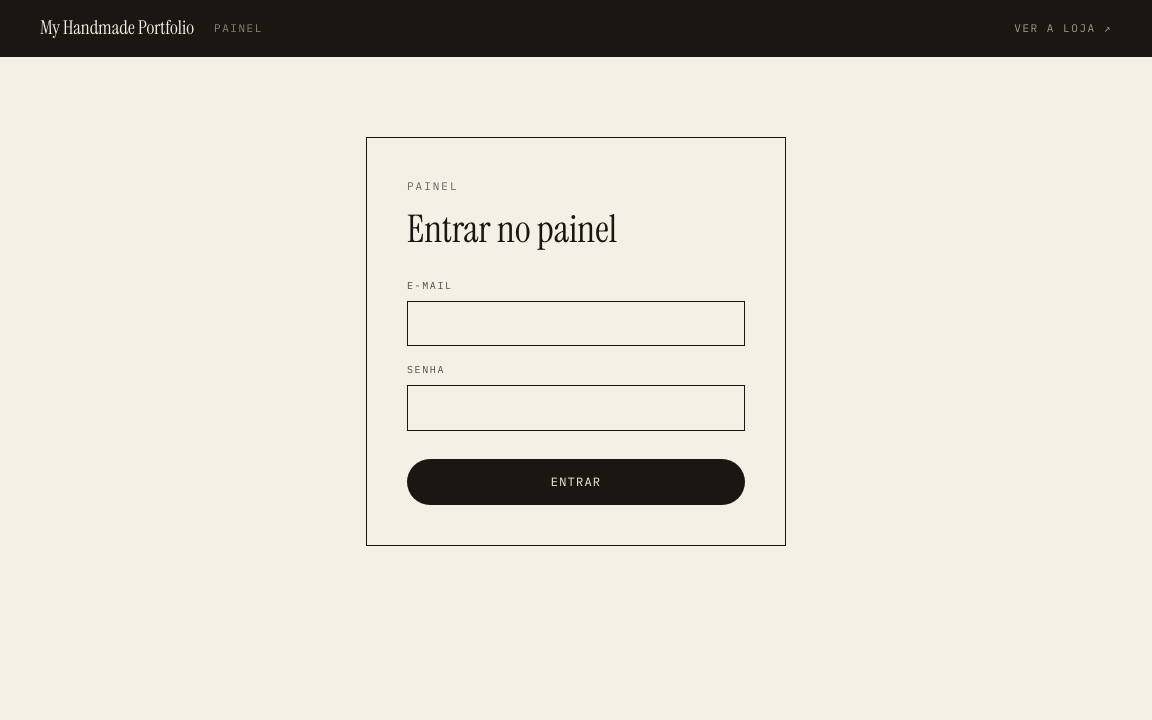
AdminShellContainer · the session guard › says the panel is down rather than blaming the password
In the field labelled "E-mail": (576, 324) x1=407 y1=301 x2=745 y2=346, type "augusto@example.com"
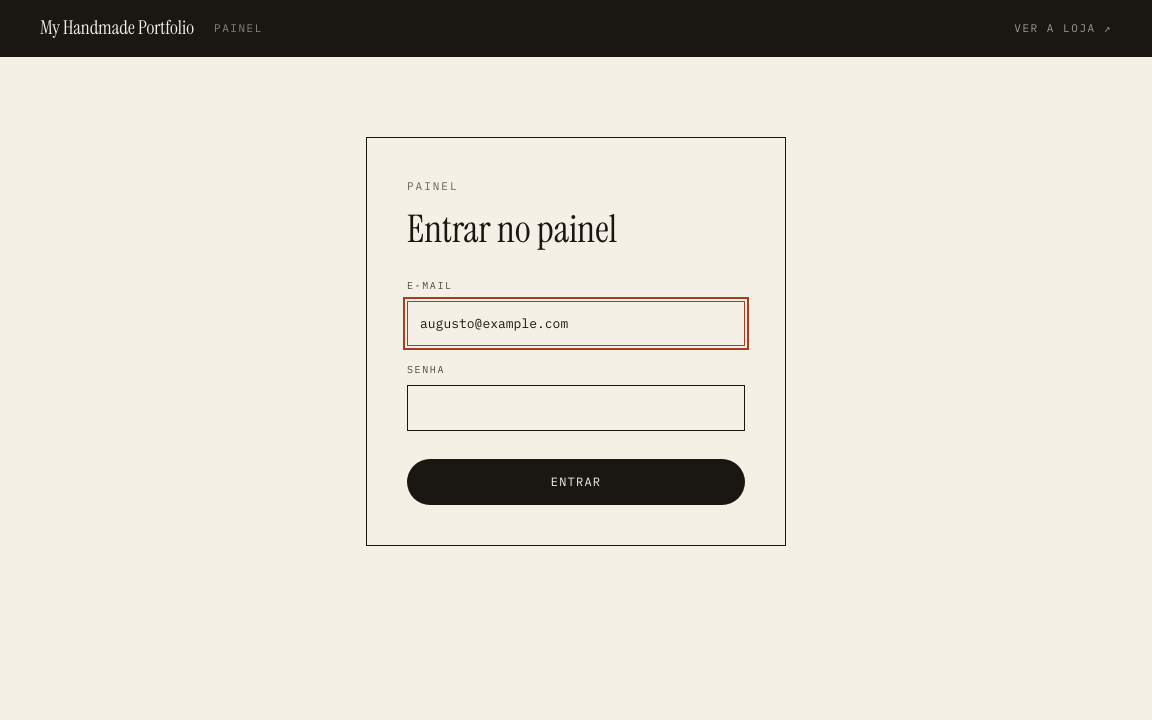
In the password field labelled "Senha": (576, 408) x1=407 y1=385 x2=745 y2=431, type "certa"
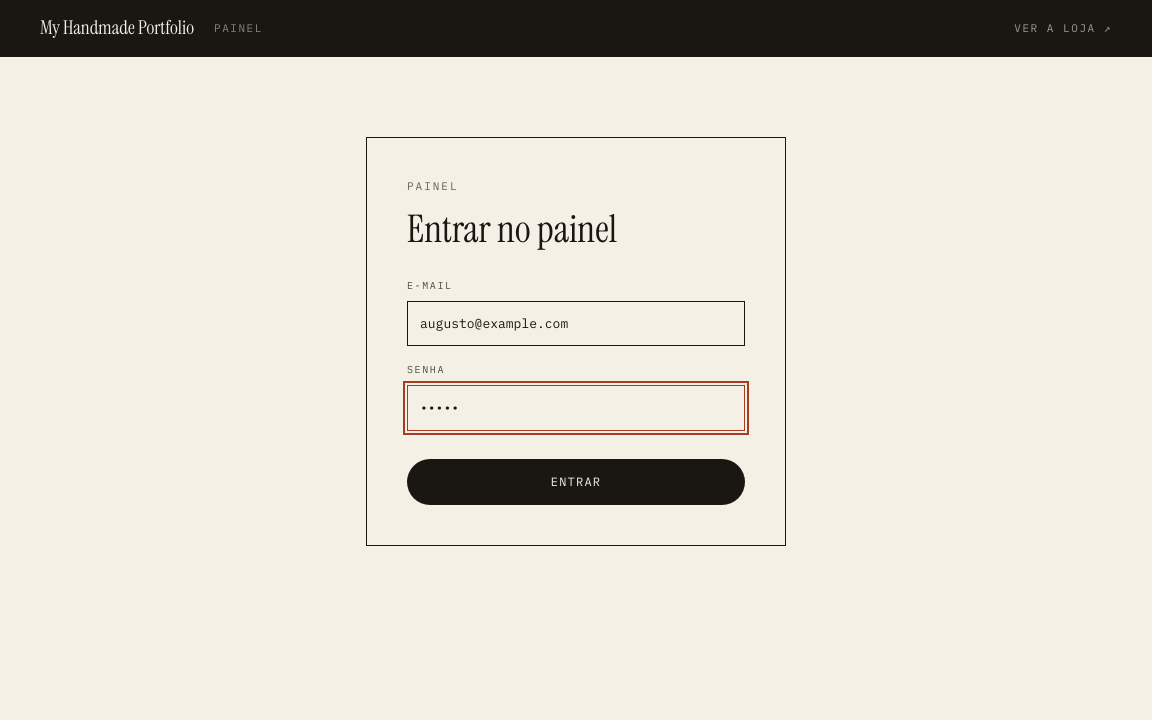
Click the button "Entrar": (576, 482) x1=407 y1=459 x2=745 y2=505
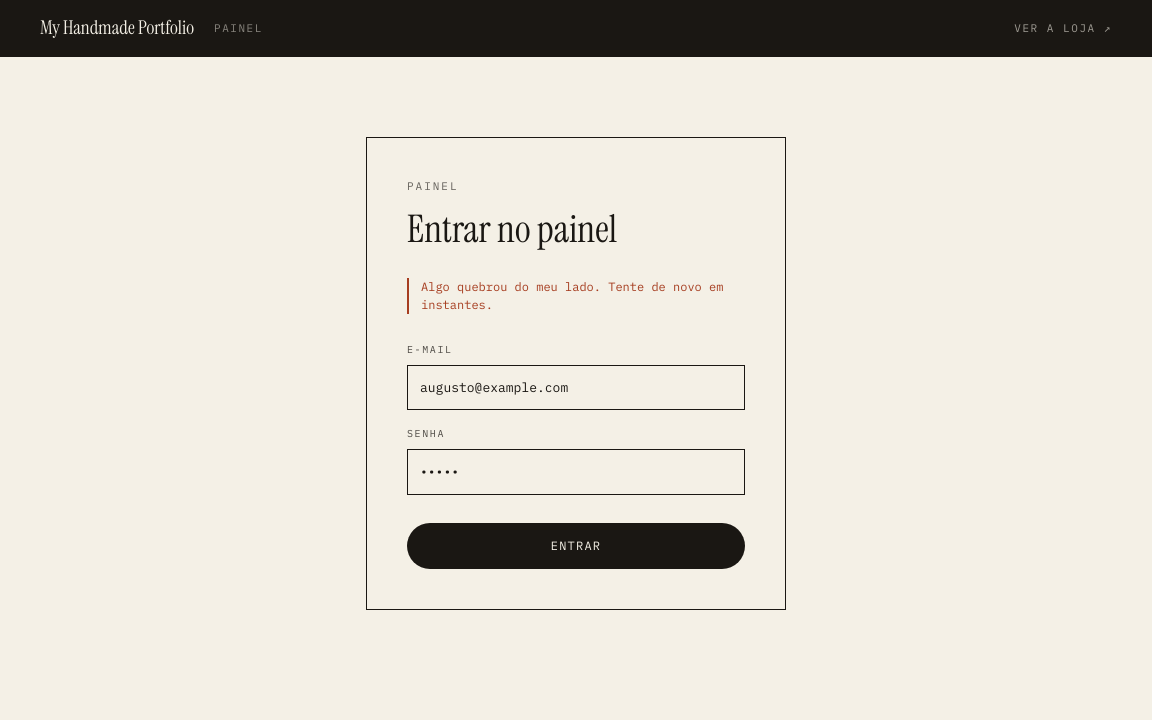
expect the message reads "Algo quebrou do meu lado. Tente de novo em instantes.": met, box x1=421 y1=279 x2=723 y2=312
